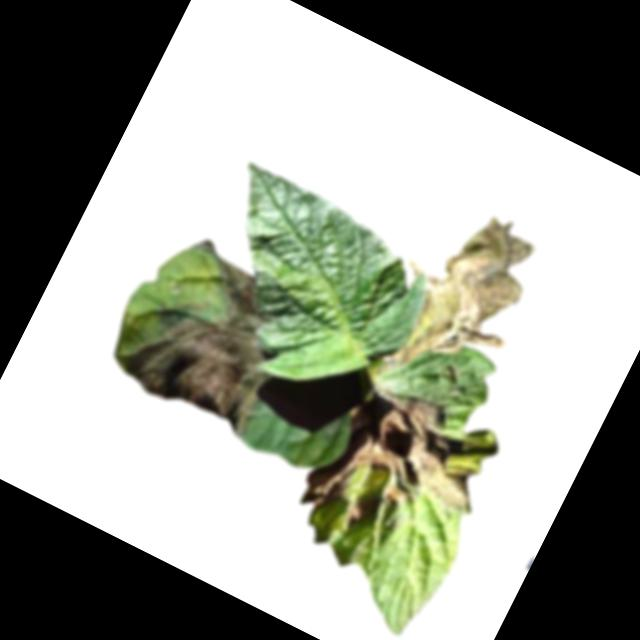Late_blight: (361, 185, 557, 404), (104, 234, 308, 440), (352, 379, 506, 517), (295, 387, 389, 519), (342, 492, 379, 530), (382, 482, 412, 511)
